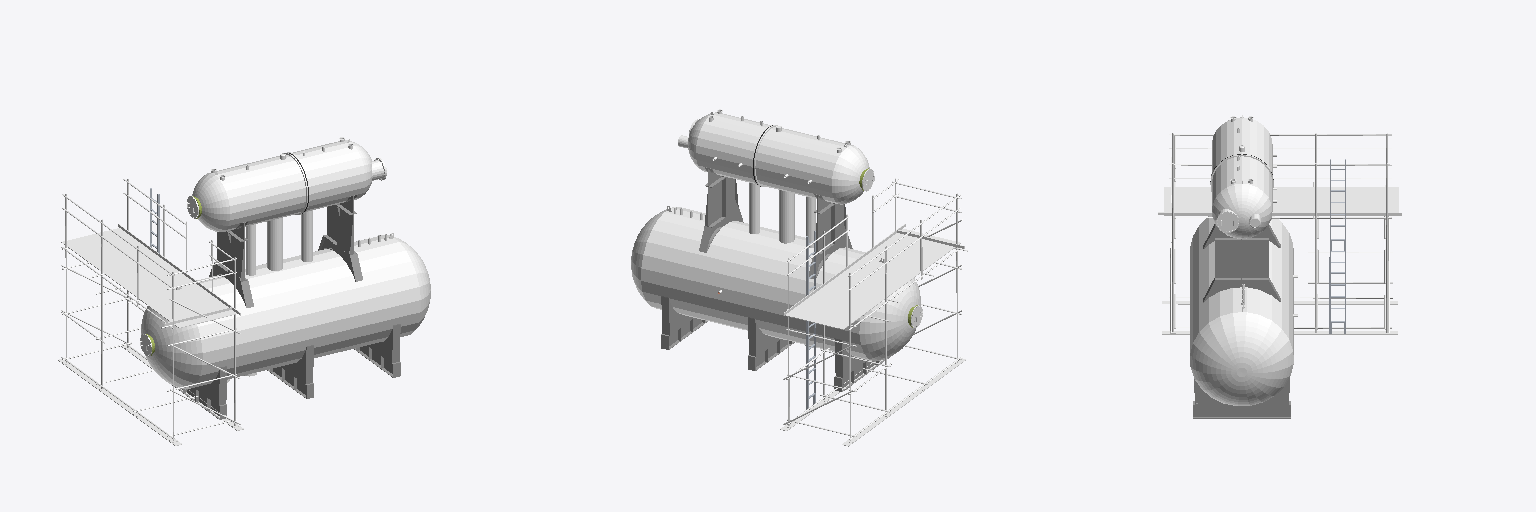
Rendered from platform.obj.
3 views of the same model, side by side, from view 1: azimuth 30°, elevation 25°; view 2: azimuth 150°, elevation 25°; view 3: azimuth 270°, elevation 25° (orthographic).
Parts seen in each view (by area): view 1: Mesh120 Component_3_1 Group1 Model, Mesh132 Component_10_1 Group1 Model, Mesh121 Component_3_1 Group1 Model, Mesh125 Component_8_2 Group1 Model, Mesh124 Component_8_1 Group1 Model, Mesh149 Group1 Model, Mesh38 Group24 Component_17_1 Group1 Model, Mesh116 Component_2_1 Component_3_1 Group1 Model, Mesh89 Group63 Component_17_1 Group1 Model, Mesh93 Group67 Component_17_1 Group1 Model, Mesh51 Group35 Component_17_1 Group1 Model, Mesh40 Group26 Component_17_1 Group1 Model (+11 smaller); view 2: Mesh120 Component_3_1 Group1 Model, Mesh132 Component_10_1 Group1 Model, Mesh121 Component_3_1 Group1 Model, Mesh125 Component_8_2 Group1 Model, Mesh124 Component_8_1 Group1 Model, Mesh149 Group1 Model, Mesh38 Group24 Component_17_1 Group1 Model, Mesh116 Component_2_1 Component_3_1 Group1 Model, Mesh51 Group35 Component_17_1 Group1 Model, Mesh89 Group63 Component_17_1 Group1 Model, Mesh80 Group53 Component_17_1 Group1 Model, Mesh93 Group67 Component_17_1 Group1 Model (+10 smaller); view 3: Mesh116 Component_2_1 Component_3_1 Group1 Model, Mesh132 Component_10_1 Group1 Model, Mesh120 Component_3_1 Group1 Model, Mesh125 Component_8_2 Group1 Model, Mesh2 Component_4_1 Component_6_1 Group1 Model, Mesh139 Component_12_2 Component_11_2 Group1 Model, Mesh1 Component_5_1 Component_6_1 Group1 Model, Mesh40 Group26 Component_17_1 Group1 Model, Mesh51 Group35 Component_17_1 Group1 Model, Mesh93 Group67 Component_17_1 Group1 Model, Mesh89 Group63 Component_17_1 Group1 Model.
Part boxes in pixels (x1,y1,x2,y2): Mesh120 Component_3_1 Group1 Model: (193, 235, 420, 387); Mesh132 Component_10_1 Group1 Model: (192, 140, 372, 231); Mesh121 Component_3_1 Group1 Model: (141, 306, 202, 389); Mesh125 Component_8_2 Group1 Model: (323, 195, 356, 254); Mesh124 Component_8_1 Group1 Model: (214, 222, 247, 281); Mesh149 Group1 Model: (267, 218, 282, 270); Mesh38 Group24 Component_17_1 Group1 Model: (61, 241, 185, 327); Mesh116 Component_2_1 Component_3_1 Group1 Model: (394, 237, 430, 328); Mesh89 Group63 Component_17_1 Group1 Model: (76, 237, 199, 324); Mesh93 Group67 Component_17_1 Group1 Model: (68, 239, 192, 326); Mesh51 Group35 Component_17_1 Group1 Model: (104, 230, 227, 317); Mesh40 Group26 Component_17_1 Group1 Model: (89, 234, 213, 321); Mesh120 Component_3_1 Group1 Model: (641, 207, 871, 360); Mesh132 Component_10_1 Group1 Model: (678, 112, 869, 204); Mesh121 Component_3_1 Group1 Model: (859, 278, 920, 361); Mesh125 Component_8_2 Group1 Model: (705, 167, 738, 227); Mesh124 Component_8_1 Group1 Model: (814, 194, 845, 253); Mesh149 Group1 Model: (779, 190, 794, 243); Mesh38 Group24 Component_17_1 Group1 Model: (837, 241, 960, 329); Mesh116 Component_2_1 Component_3_1 Group1 Model: (631, 209, 666, 301); Mesh51 Group35 Component_17_1 Group1 Model: (795, 231, 918, 319); Mesh89 Group63 Component_17_1 Group1 Model: (822, 238, 946, 325); Mesh80 Group53 Component_17_1 Group1 Model: (816, 236, 939, 324); Mesh93 Group67 Component_17_1 Group1 Model: (829, 239, 953, 327); Mesh116 Component_2_1 Component_3_1 Group1 Model: (1190, 312, 1293, 405); Mesh132 Component_10_1 Group1 Model: (1210, 117, 1276, 238); Mesh120 Component_3_1 Group1 Model: (1190, 216, 1297, 354); Mesh125 Component_8_2 Group1 Model: (1215, 224, 1268, 279); Mesh2 Component_4_1 Component_6_1 Group1 Model: (1193, 401, 1290, 418); Mesh139 Component_12_2 Component_11_2 Group1 Model: (1203, 278, 1280, 302); Mesh1 Component_5_1 Component_6_1 Group1 Model: (1194, 378, 1289, 404); Mesh40 Group26 Component_17_1 Group1 Model: (1164, 200, 1398, 203); Mesh51 Group35 Component_17_1 Group1 Model: (1164, 207, 1398, 210); Mesh93 Group67 Component_17_1 Group1 Model: (1164, 190, 1398, 193); Mesh89 Group63 Component_17_1 Group1 Model: (1164, 193, 1398, 196).
Bounding box in the file's own units: 469 × 346 × 336.